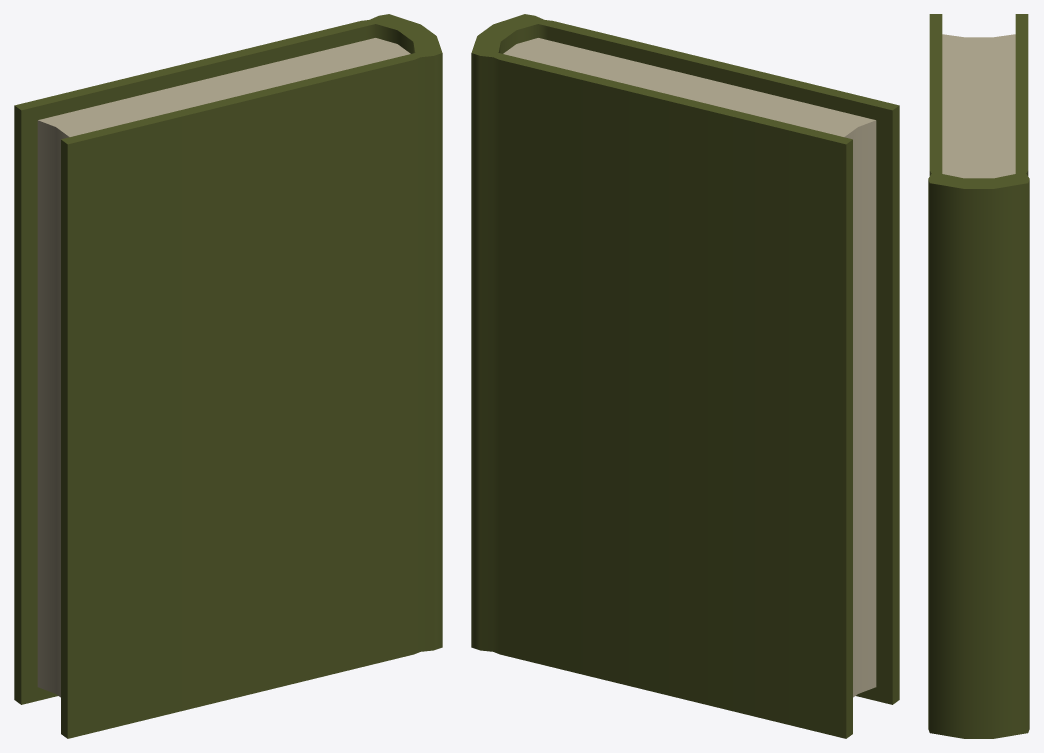
File: Book_Small_Green.glb
3 renders of one model, left to right at view 1: azimuth 30°, elevation 25°; view 2: azimuth 150°, elevation 25°; view 3: azimuth 270°, elevation 25°, orthographic. The views are drawn at different scales.
Parts seen in each view (by area): view 1: Book_Small_Green; view 2: Book_Small_Green; view 3: Book_Small_Green.
Boxes of the visible parts, x1=… form: Book_Small_Green: x1=14, y1=14, x2=442, y2=738; Book_Small_Green: x1=471, y1=14, x2=899, y2=738; Book_Small_Green: x1=928, y1=14, x2=1029, y2=738.
Size of the model in its own units: 0.2569 by 0.3764 by 0.063.
Materials: 2 (2 with a texture image).
